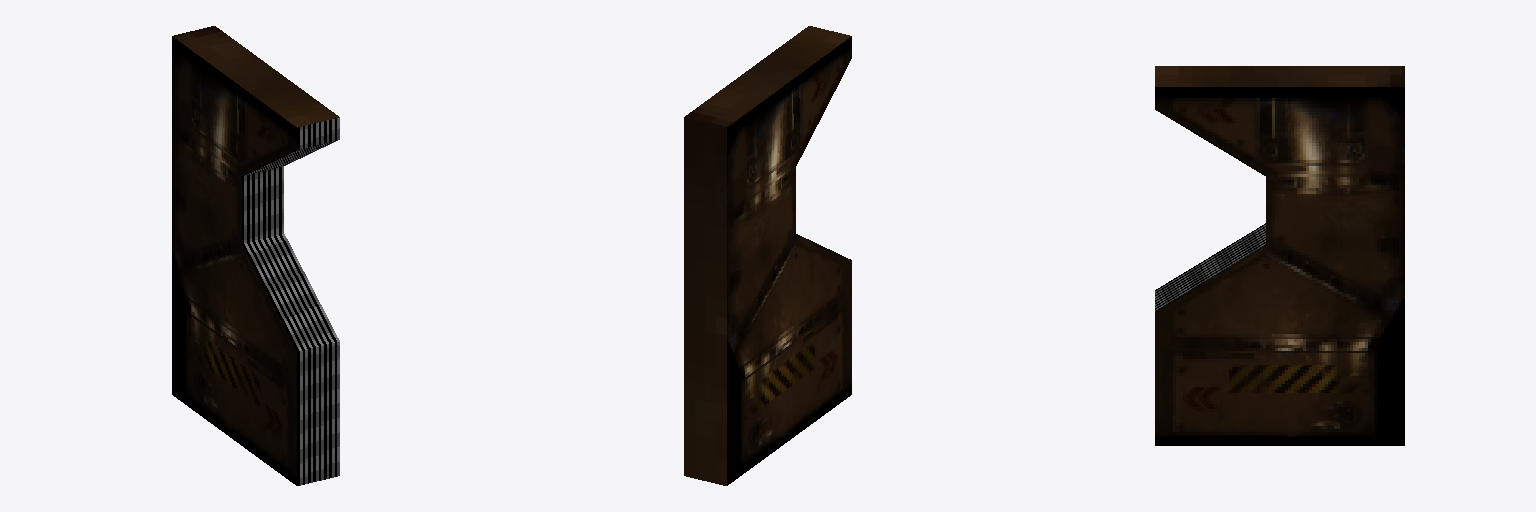
3 renders of one model, left to right at view 1: azimuth 30°, elevation 25°; view 2: azimuth 150°, elevation 25°; view 3: azimuth 270°, elevation 25°, orthographic.
Parts seen in each view (by area): view 1: MODEL_DAPPERDOORR; view 2: MODEL_DAPPERDOORR; view 3: MODEL_DAPPERDOORR.
Boxes of the visible parts, x1=… form: MODEL_DAPPERDOORR: x1=172, y1=26, x2=339, y2=485; MODEL_DAPPERDOORR: x1=684, y1=26, x2=851, y2=485; MODEL_DAPPERDOORR: x1=1155, y1=66, x2=1404, y2=445.
Size of the model in its own units: 16 by 128 by 81.
2 materials, 2 textured.